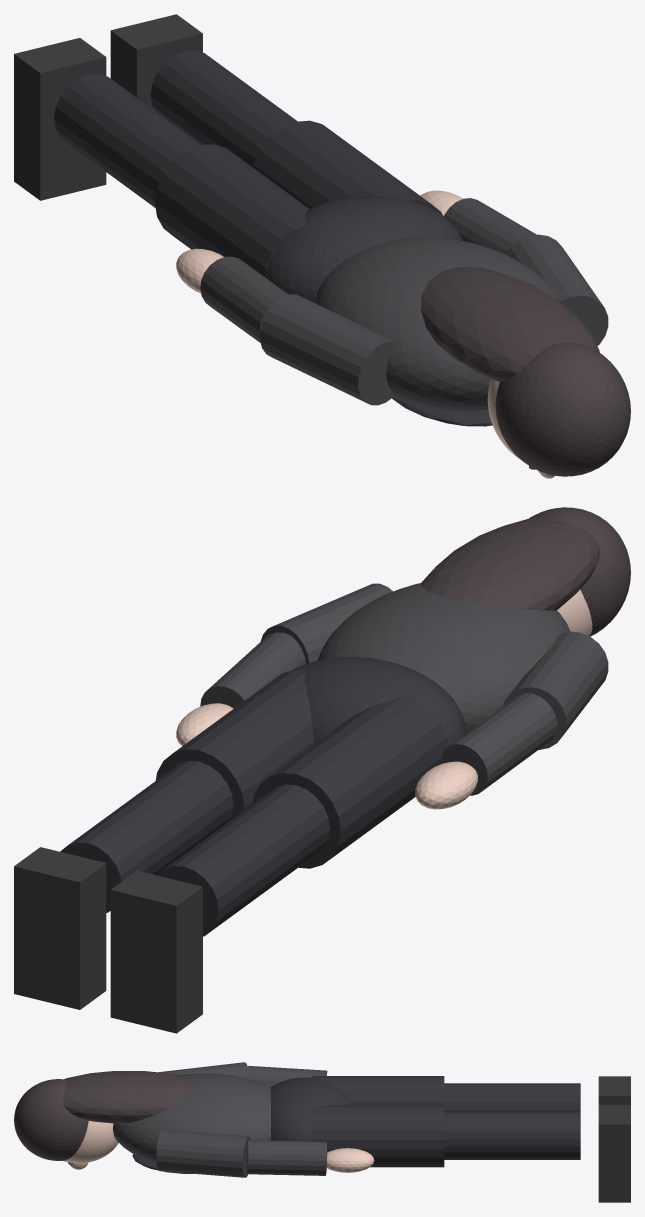
Rendered from Mira_v0.1_verified.glb.
3 views of the same model, one above another, from view 1: azimuth 30°, elevation 25°; view 2: azimuth 150°, elevation 25°; view 3: azimuth 270°, elevation 25° (orthographic). The views are drawn at different scales.
Parts seen in each view (by area): view 1: Torso, HairCap, Hair, Thigh_-1, Calf_-1, Shoe_-1, Hips, Calf_1, UpperArm_-1, Thigh_1, Shoe_1, UpperArm_1 (+4 smaller); view 2: Torso, Thigh_-1, Shoe_-1, Shoe_1, Calf_-1, Hair, Calf_1, Thigh_1, Hips, Forearm_-1, UpperArm_-1, HairCap (+5 smaller); view 3: Thigh_1, Torso, Calf_1, Hair, HairCap, Calf_-1, UpperArm_1, Hips, Shoe_1, Thigh_-1, Forearm_1, Head (+5 smaller).
Part boxes in pixels (x1,y1,x2,y2): Torso: (315,237,559,411); HairCap: (495,342,630,476); Hair: (421,267,599,382); Thigh_-1: (155,144,309,275); Calf_-1: (54,74,200,207); Shoe_-1: (14,38,106,200); Hips: (263,195,462,302); Calf_1: (150,50,297,167); UpperArm_-1: (260,294,395,405); Thigh_1: (253,120,442,215); Shoe_1: (110,14,202,110); UpperArm_1: (505,234,608,345); Torso: (317,583,570,733); Thigh_-1: (252,695,447,868); Shoe_-1: (110,870,202,1033); Shoe_1: (14,847,106,1009); Calf_-1: (157,784,329,936); Hair: (421,517,599,610); Calf_1: (60,761,233,912); Thigh_1: (155,670,314,821); Hips: (292,657,465,746); Forearm_-1: (440,693,557,795); UpperArm_-1: (503,631,608,749); HairCap: (529,507,630,636); Thigh_1: (311,1104,444,1167); Torso: (113,1073,271,1163); Calf_1: (444,1112,580,1159); Hair: (63,1071,195,1123); HairCap: (14,1079,88,1160); Calf_-1: (444,1083,580,1112); UpperArm_1: (156,1129,250,1177); Hips: (270,1077,352,1141); Shoe_1: (598,1105,630,1202); Thigh_-1: (311,1076,444,1104); Forearm_1: (246,1140,327,1175); Head: (62,1121,118,1163).
Size of the model in its own units: 0.6021 by 0.31 by 1.72.
